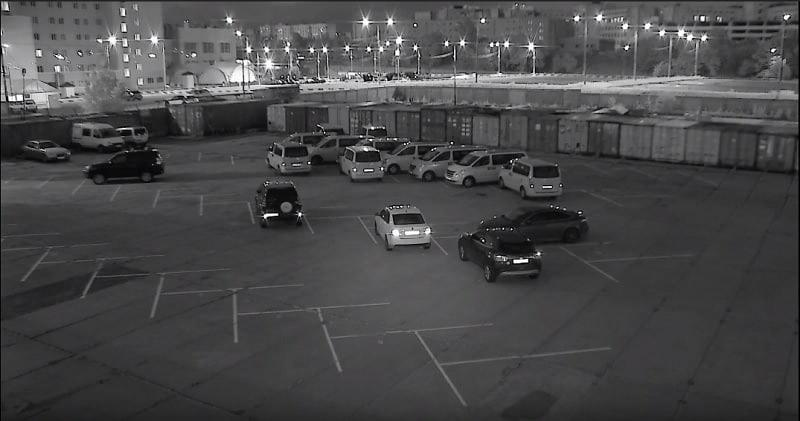empty: (463, 213, 561, 284), (447, 144, 529, 186), (83, 144, 169, 183), (501, 154, 573, 199), (374, 203, 441, 249), (57, 119, 150, 150), (254, 183, 305, 232), (407, 146, 471, 181), (338, 143, 392, 183), (266, 141, 317, 176), (384, 139, 429, 173), (14, 139, 72, 162)
occupied: (348, 341, 419, 384), (165, 291, 227, 324), (341, 300, 396, 337), (249, 316, 314, 347), (441, 326, 497, 361), (244, 284, 298, 316), (103, 280, 161, 306), (164, 267, 213, 293), (314, 214, 363, 235), (43, 264, 91, 284), (210, 200, 248, 219), (586, 239, 618, 261), (162, 196, 201, 213), (118, 256, 151, 276), (80, 188, 115, 205), (120, 190, 153, 205), (234, 158, 262, 170)
